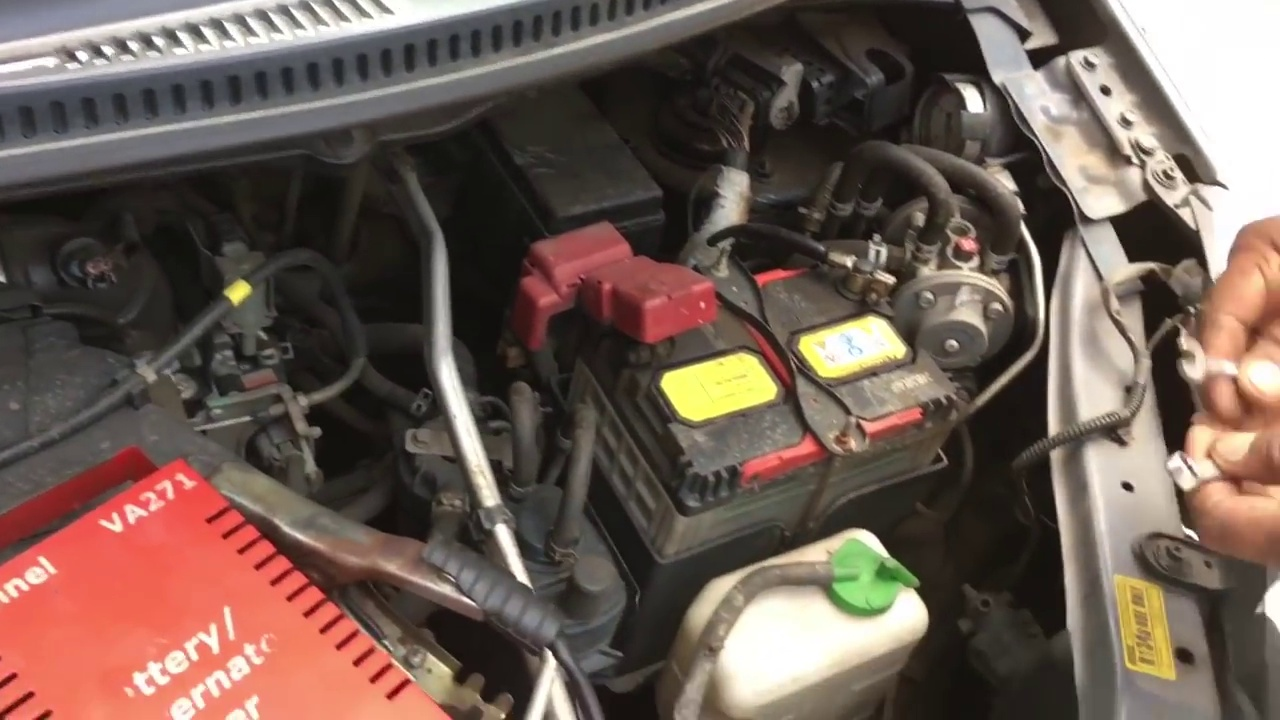battery: (530, 220, 943, 486)
neg_connected: (777, 219, 887, 327)
pos_connected: (524, 226, 732, 376)
